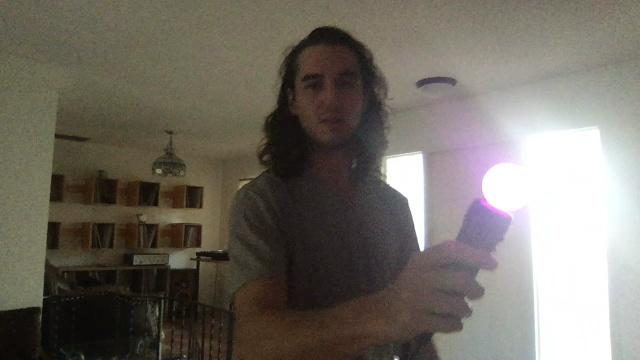wand: (483, 163, 534, 213)
